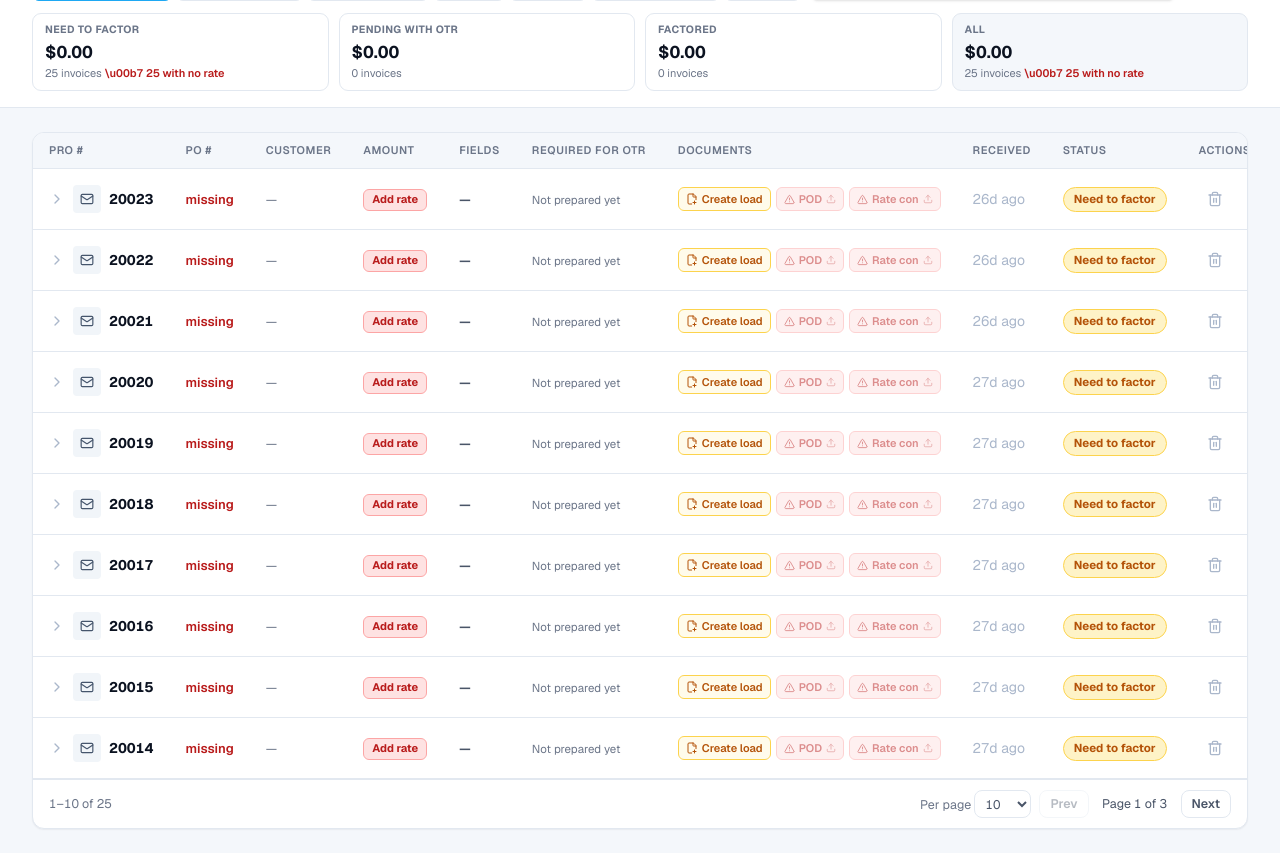
Test: paging through the queue › offers 10, 50 and 100
This screenshot has width=1280, height=853.
(page scrolled)
Select "50" in the dropdown named "Invoices per page" at {"x": 1003, "y": 804}, box [974,790,1031,818]
(page scrolled)
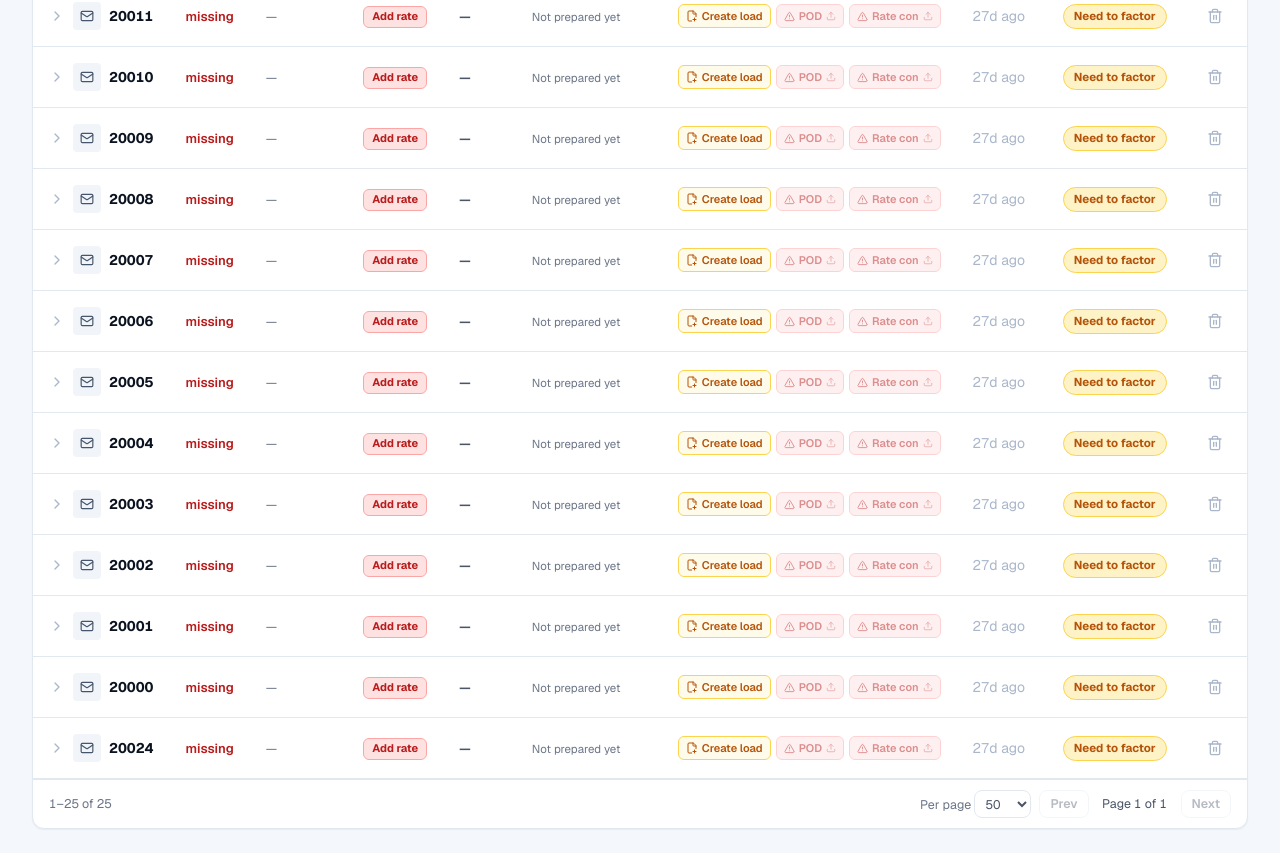
Check: the text "1–25 of 25" is shown, box [49,795,112,814]
Check: the text "Page 1 of 1" is shown, box [1096,795,1172,814]
